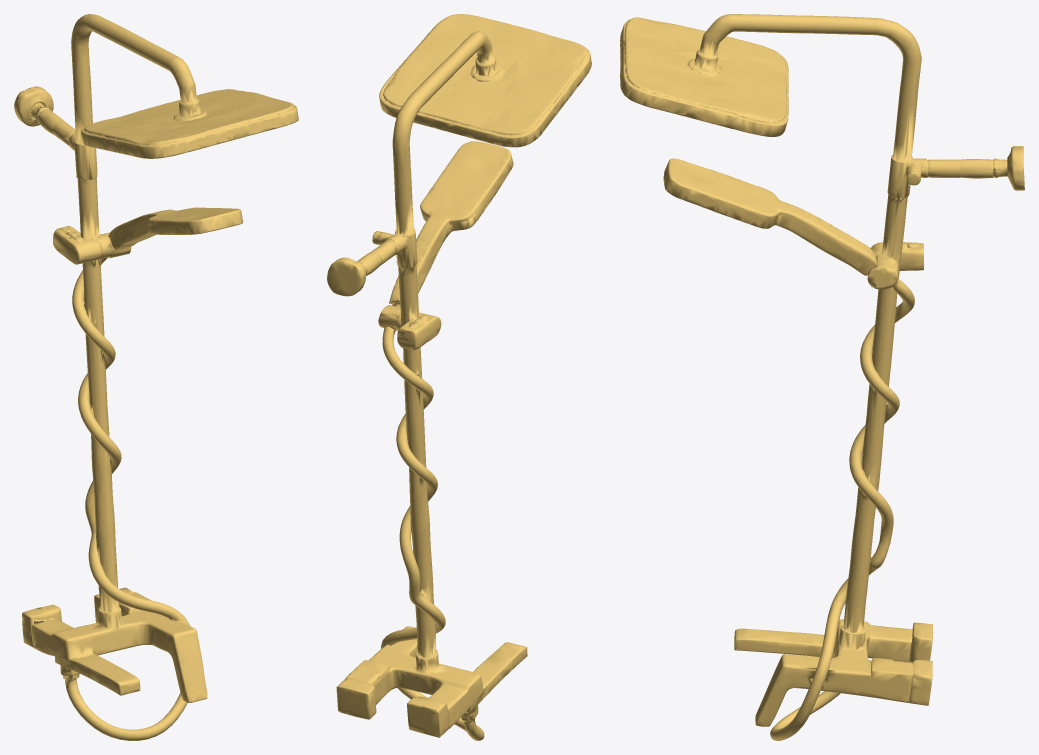
The model's file is shower.glb.
The picture shows the model from 3 angles, left to right: view 1: azimuth 30°, elevation 25°; view 2: azimuth 150°, elevation 25°; view 3: azimuth 270°, elevation 25°; orthographic projection. The views are drawn at different scales.
Parts seen in each view (by area): view 1: tripo_part_0; view 2: tripo_part_0; view 3: tripo_part_0.
Boxes of the visible parts, x1,y1,x2,y2 form: tripo_part_0: [14, 14, 298, 740]; tripo_part_0: [327, 14, 591, 740]; tripo_part_0: [620, 14, 1024, 740].
Size of the model in its own units: 0.2355 by 0.9796 by 0.4948.
